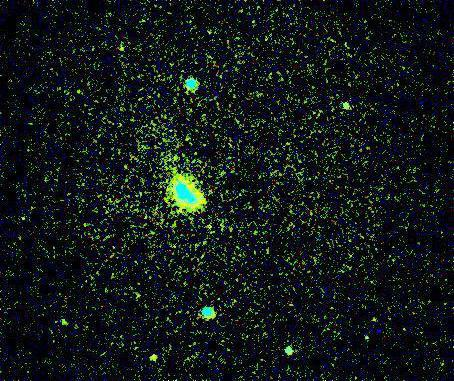star: (138, 345, 168, 375)
